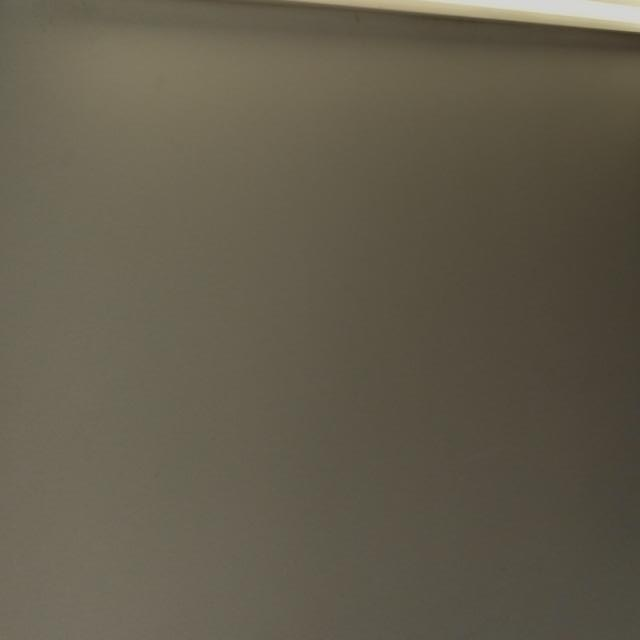fluorescent tube: (0, 0, 640, 56)
